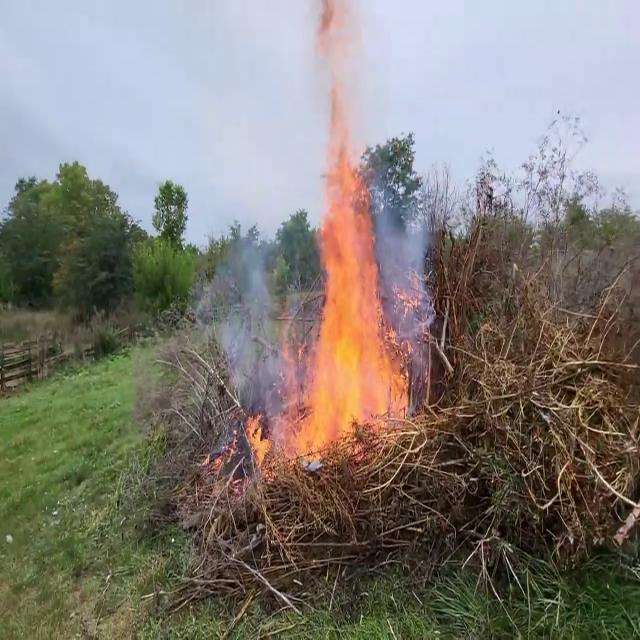Fire: (294, 161, 412, 447), (242, 406, 272, 468)
